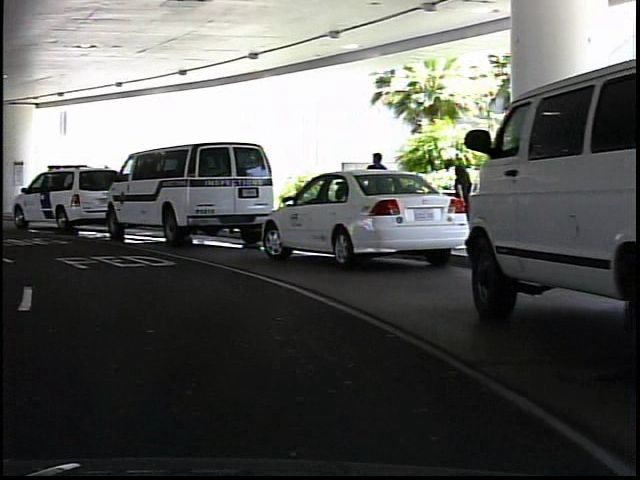person: (361, 146, 393, 236), (443, 156, 474, 247)
